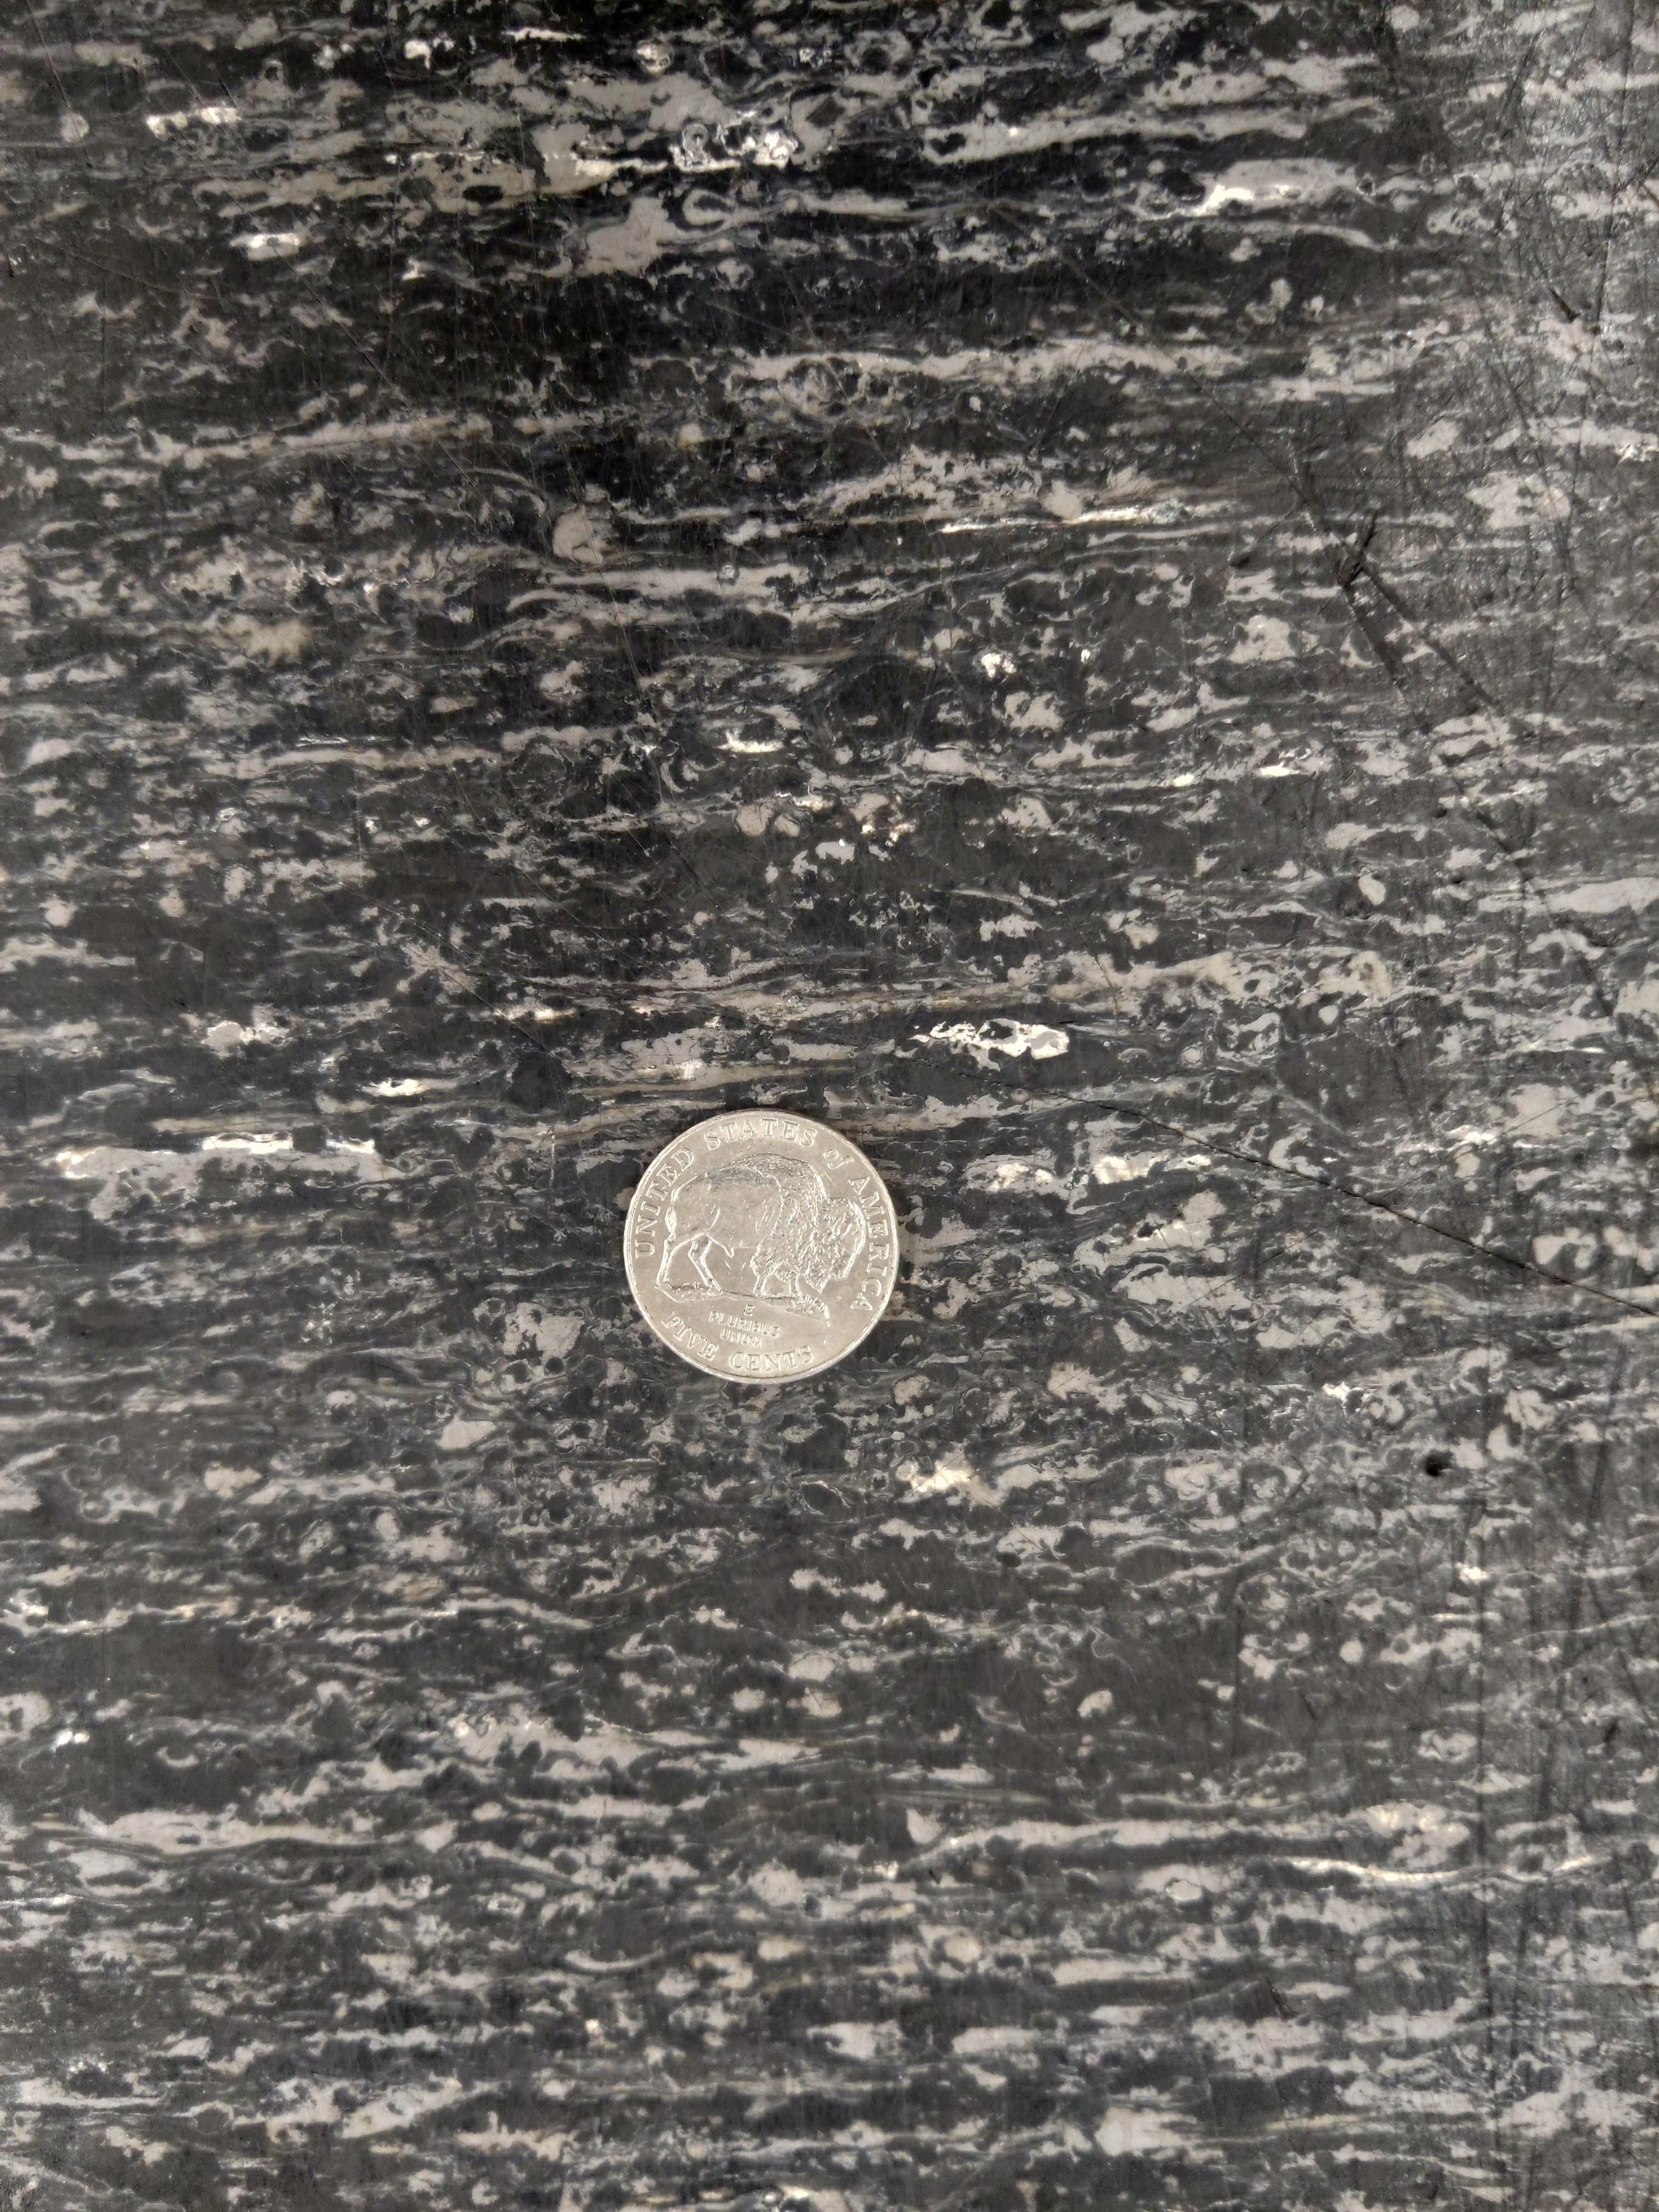Nickel: (622, 1106, 901, 1388)
